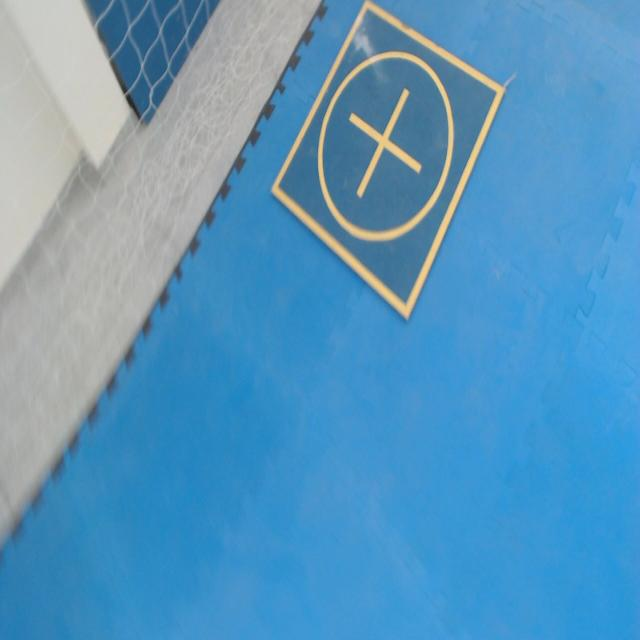base_pouso: (269, 0, 505, 323)
